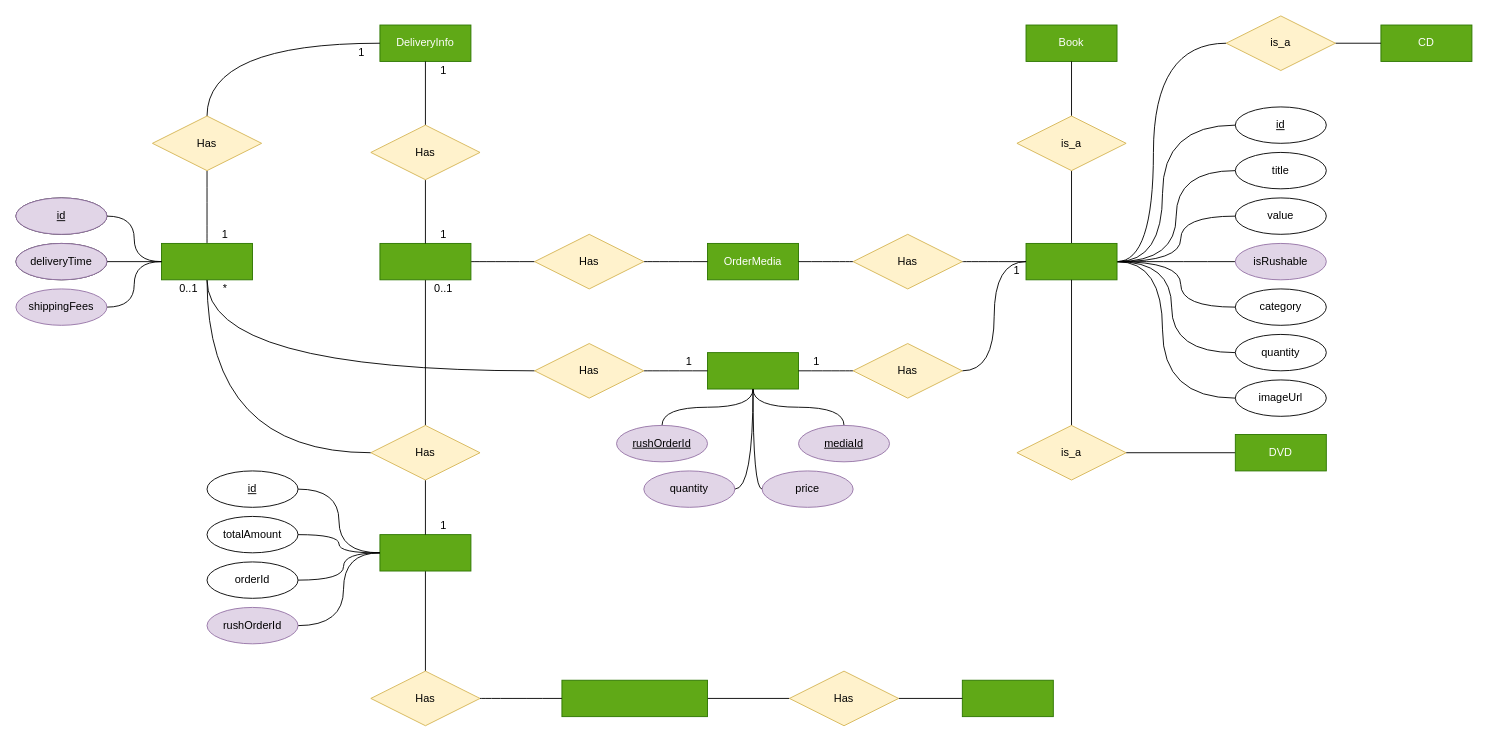
Some shapes in this 1488 by 742 pixel diagram are drawn without their labels. The shapes that lost their labels are listed below. From the top down, each one's centre as x and y in pixels, then its label:
At point (207, 261): "RushOrder".
At point (425, 261): "Order".
At point (1071, 261): "Media".
At point (753, 370): "RushOrderMedia".
At point (425, 552): "Invoice".
At point (634, 698): "PaymentTransaction".
At point (1007, 698): "Card".
